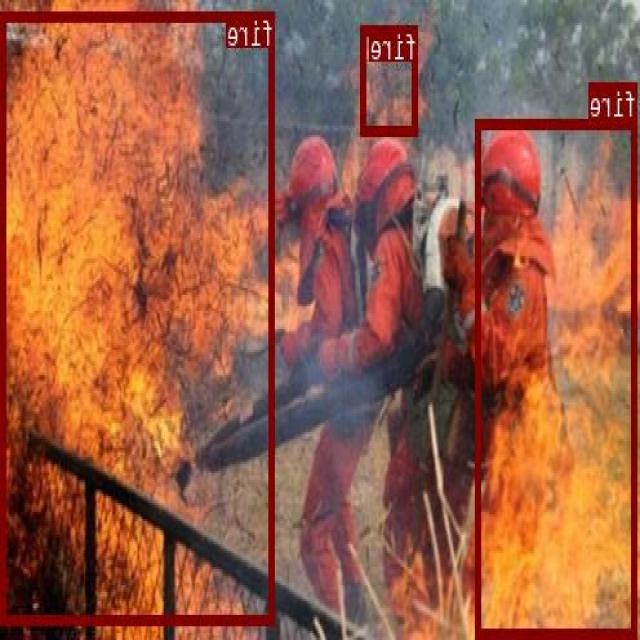fire: (3, 10, 276, 622), (478, 117, 638, 635), (361, 24, 418, 134)
